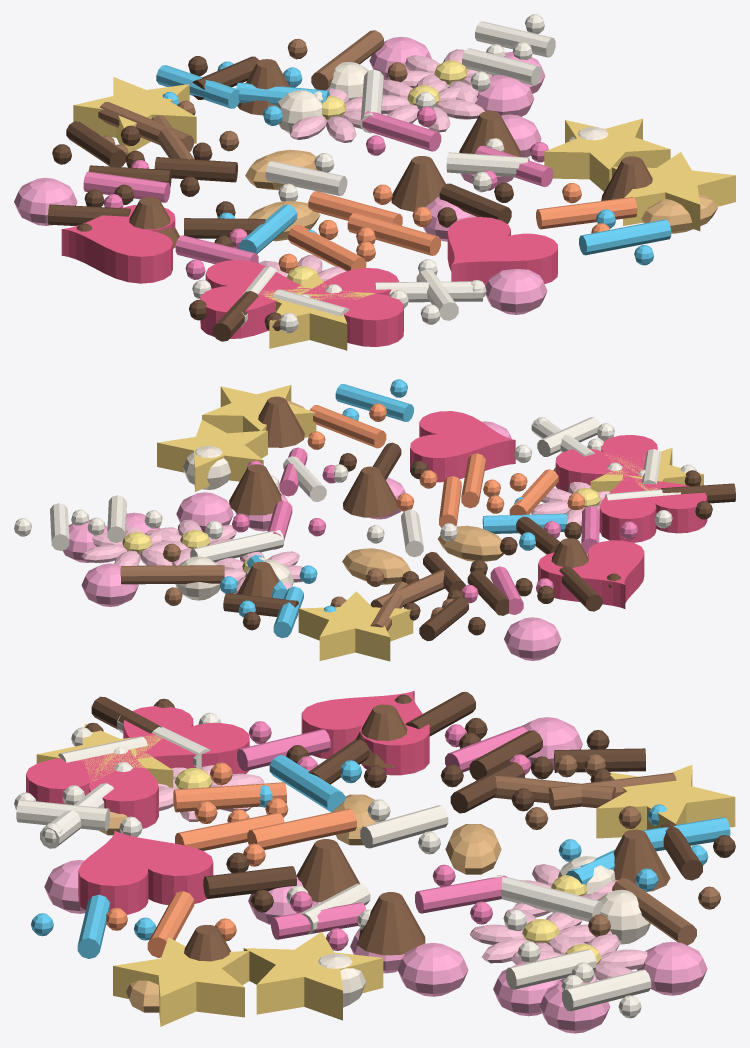
File: toppings_square_3_tier.glb
The picture shows the model from 3 angles, top to bottom: view 1: azimuth 30°, elevation 25°; view 2: azimuth 150°, elevation 25°; view 3: azimuth 270°, elevation 25°; orthographic projection. The views are drawn at different scales.
Visible parts, largest first — view 1: ToppingHeart_square_3_00, ToppingHeart_square_3_03, ToppingStar_square_3_02, ToppingHeart_square_3_01, ToppingHeart_square_3_02, ToppingStar_square_3_01, ToppingStar_square_3_00, ToppingStar_square_3_03, ToppingDot_square_3_01, ToppingChocolateChip_square_3_03, ToppingSprinkle_square_3_17_Body, ToppingSprinkle_square_3_16_Body (+47 smaller); view 2: ToppingHeart_square_3_03, ToppingStar_square_3_00, ToppingHeart_square_3_02, ToppingHeart_square_3_00, ToppingStar_square_3_02, ToppingHeart_square_3_01, ToppingStar_square_3_01, ToppingChocolateChip_square_3_03, ToppingSprinkle_square_3_14_Body, ToppingDot_square_3_04, ToppingChocolateChip_square_3_02, ToppingDot_square_3_06 (+42 smaller); view 3: ToppingHeart_square_3_03, ToppingStar_square_3_01, ToppingStar_square_3_02, ToppingHeart_square_3_01, ToppingHeart_square_3_00, ToppingStar_square_3_00, ToppingHeart_square_3_02, ToppingChocolateChip_square_3_02, ToppingDot_square_3_05, ToppingDot_square_3_06, ToppingChocolateChip_square_3_03, ToppingSprinkle_square_3_12_Body (+52 smaller).
Part boxes in pixels (bbox=[...]): ToppingHeart_square_3_00: bbox=[61, 205, 175, 283]; ToppingHeart_square_3_03: bbox=[447, 217, 557, 286]; ToppingStar_square_3_02: bbox=[544, 118, 670, 191]; ToppingHeart_square_3_01: bbox=[301, 268, 403, 346]; ToppingHeart_square_3_02: bbox=[200, 260, 311, 338]; ToppingStar_square_3_01: bbox=[612, 152, 735, 231]; ToppingStar_square_3_00: bbox=[73, 77, 196, 153]; ToppingStar_square_3_03: bbox=[260, 272, 374, 350]; ToppingDot_square_3_01: bbox=[485, 269, 547, 314]; ToppingChocolateChip_square_3_03: bbox=[391, 156, 445, 211]; ToppingSprinkle_square_3_17_Body: bbox=[536, 197, 637, 229]; ToppingSprinkle_square_3_16_Body: bbox=[579, 219, 671, 255]; ToppingHeart_square_3_03: bbox=[410, 411, 515, 482]; ToppingStar_square_3_00: bbox=[298, 591, 413, 661]; ToppingHeart_square_3_02: bbox=[599, 474, 707, 542]; ToppingHeart_square_3_00: bbox=[538, 540, 644, 608]; ToppingStar_square_3_02: bbox=[157, 420, 267, 491]; ToppingHeart_square_3_01: bbox=[555, 435, 657, 492]; ToppingStar_square_3_01: bbox=[202, 385, 316, 437]; ToppingChocolateChip_square_3_03: bbox=[343, 466, 398, 517]; ToppingSprinkle_square_3_14_Body: bbox=[120, 565, 224, 584]; ToppingDot_square_3_04: bbox=[504, 617, 561, 660]; ToppingChocolateChip_square_3_02: bbox=[229, 464, 281, 515]; ToppingDot_square_3_06: bbox=[81, 563, 138, 606]; ToppingHeart_square_3_03: bbox=[78, 830, 213, 914]; ToppingStar_square_3_01: bbox=[113, 937, 249, 1026]; ToppingStar_square_3_02: bbox=[243, 932, 383, 1020]; ToppingHeart_square_3_01: bbox=[26, 749, 158, 828]; ToppingHeart_square_3_00: bbox=[301, 690, 429, 775]; ToppingStar_square_3_00: bbox=[596, 765, 735, 838]; ToppingHeart_square_3_02: bbox=[123, 706, 249, 773]; ToppingChocolateChip_square_3_02: bbox=[356, 892, 425, 955]; ToppingDot_square_3_05: bbox=[397, 943, 468, 996]; ToppingDot_square_3_06: bbox=[636, 941, 707, 995]; ToppingChocolateChip_square_3_03: bbox=[296, 839, 359, 902]; ToppingSprinkle_square_3_12_Body: bbox=[247, 808, 356, 849].
Bounding box in the file's own units: 0.904 × 0.0993 × 0.8727.
